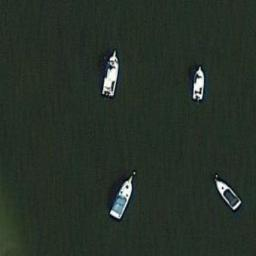boat: (108, 172, 134, 221), (212, 174, 242, 213), (100, 50, 120, 98), (190, 65, 204, 102)
